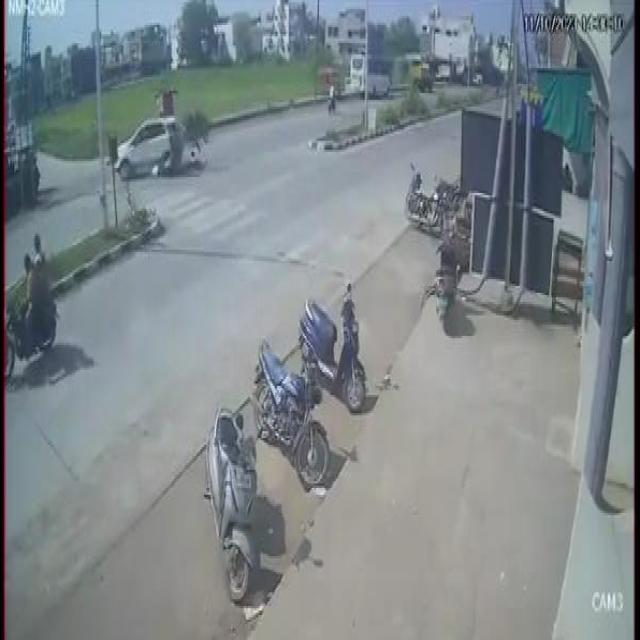accident: (112, 99, 206, 203)
